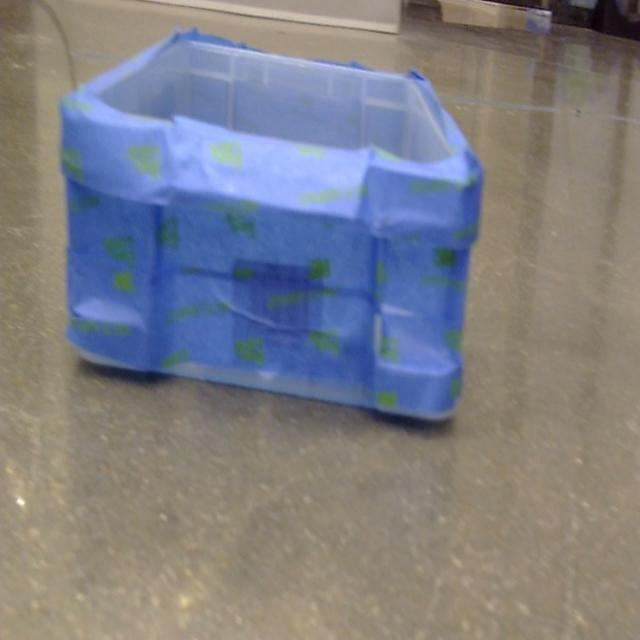bucket: (58, 29, 485, 427)
